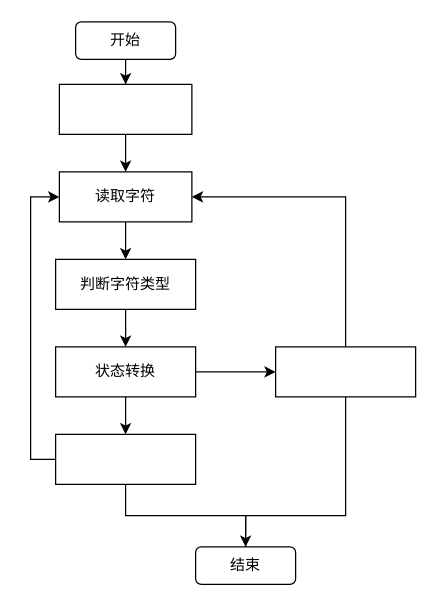
The diagram is 438 pixels wide and 606 high, and some of its shapes have lost their labels. Here are the shapes that lost their labels. From the top down, the box of each, then its label:
(58, 83, 192, 134): 输入源代码文件
(274, 346, 416, 397): 错误处理
(54, 433, 196, 484): 生成token二元组
